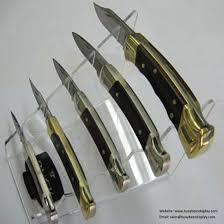knife: (90, 1, 218, 168), (6, 106, 64, 224)
